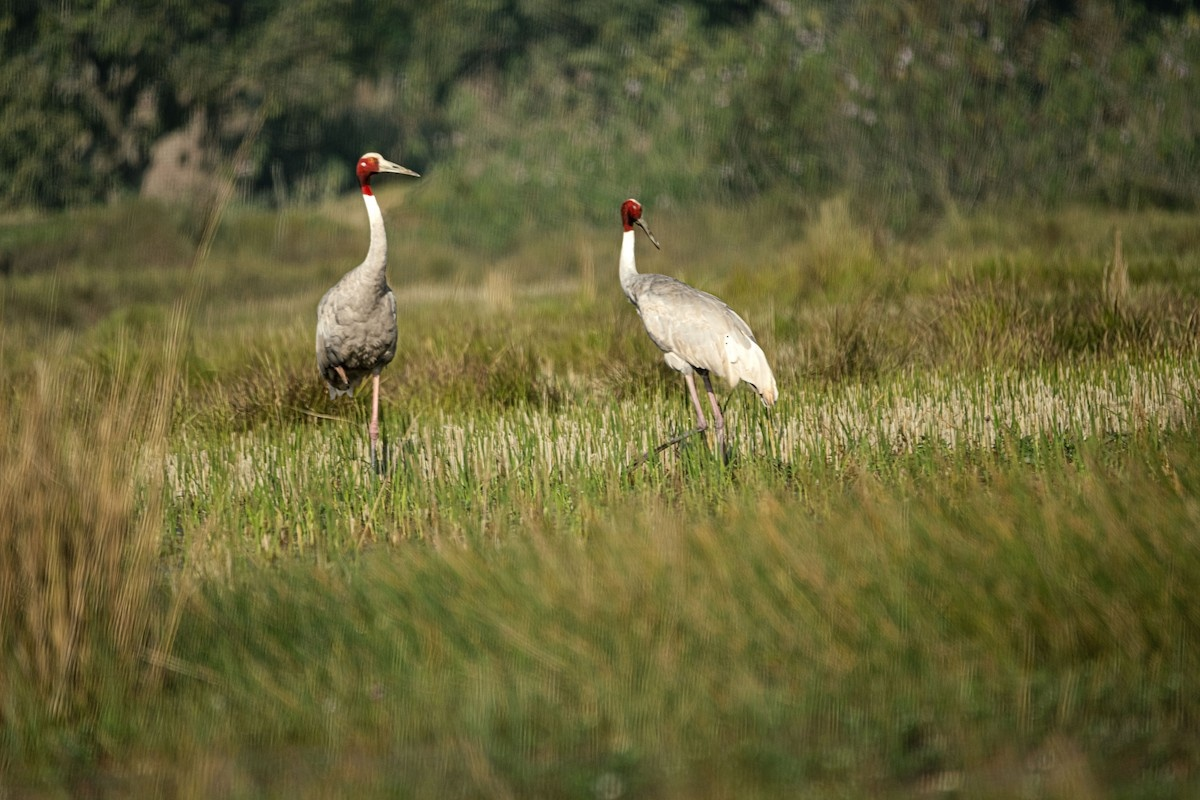crane: (615, 182, 788, 475), (319, 143, 430, 476)
